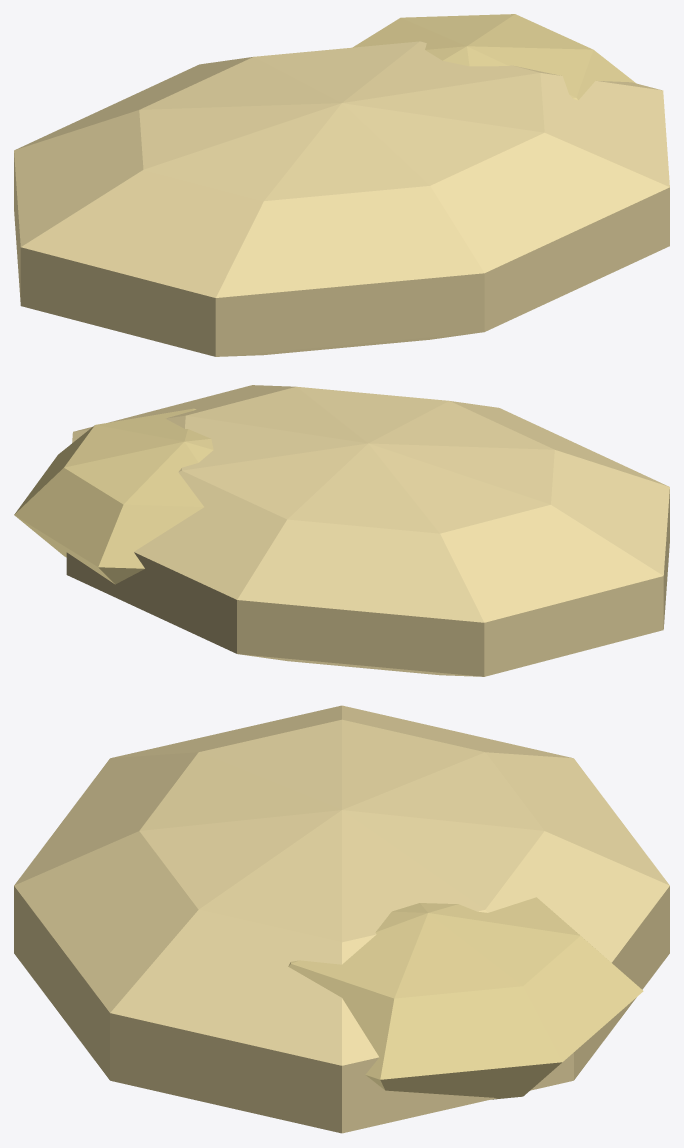
File: straw_pile.glb
3 renders of one model, top to bottom at view 1: azimuth 30°, elevation 25°; view 2: azimuth 150°, elevation 25°; view 3: azimuth 270°, elevation 25°, orthographic. The views are drawn at different scales.
Visible parts, largest first — view 1: straw_pile; view 2: straw_pile; view 3: straw_pile.
Boxes of the visible parts, x1,y1,x2,y2 form: straw_pile: (14, 14, 669, 356); straw_pile: (14, 385, 669, 676); straw_pile: (14, 705, 669, 1133).
Bounding box in the file's own units: 1.98 × 0.5601 × 1.52.
